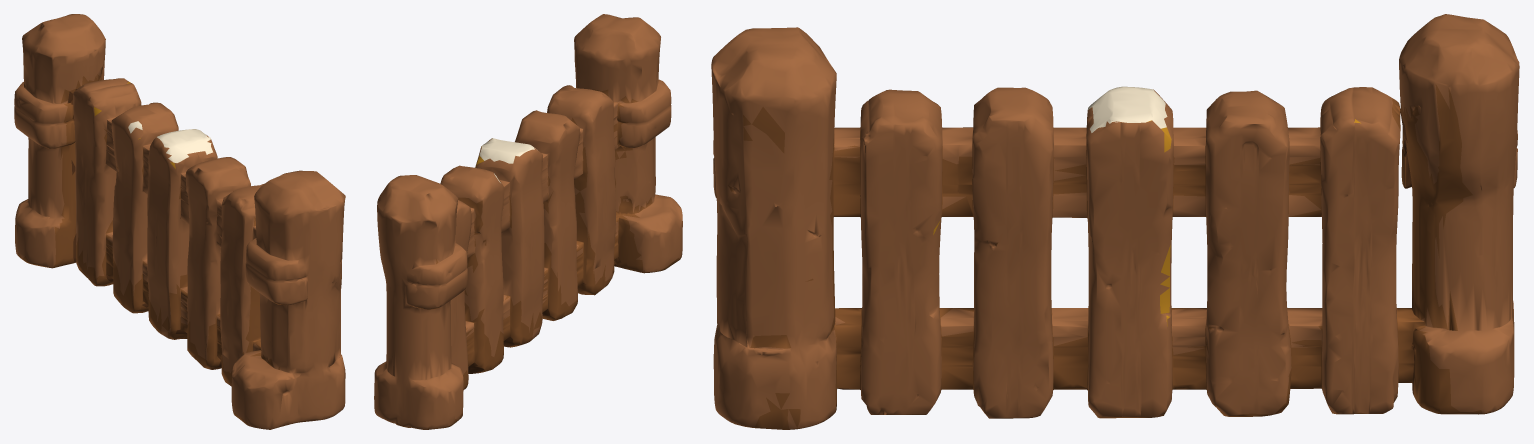
The model's file is SM_fence_wood.fbx.
3 views of the same model, side by side, from view 1: azimuth 30°, elevation 25°; view 2: azimuth 150°, elevation 25°; view 3: azimuth 270°, elevation 25° (orthographic). The views are drawn at different scales.
Parts seen in each view (by area): view 1: SM_fence_wood; view 2: SM_fence_wood; view 3: SM_fence_wood.
Boxes of the visible parts, box(x1,y1,x2,y2) form: SM_fence_wood: box(14, 14, 345, 429); SM_fence_wood: box(374, 14, 682, 429); SM_fence_wood: box(711, 14, 1519, 429).
Size of the model in its own units: 43.49 by 100 by 198.
1 material, 1 textured.
